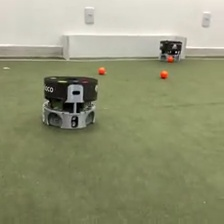ball: (97, 65, 107, 75), (159, 70, 168, 78), (167, 54, 175, 62)
goal: (60, 32, 188, 61)
robot: (39, 73, 100, 130), (157, 38, 181, 63)
